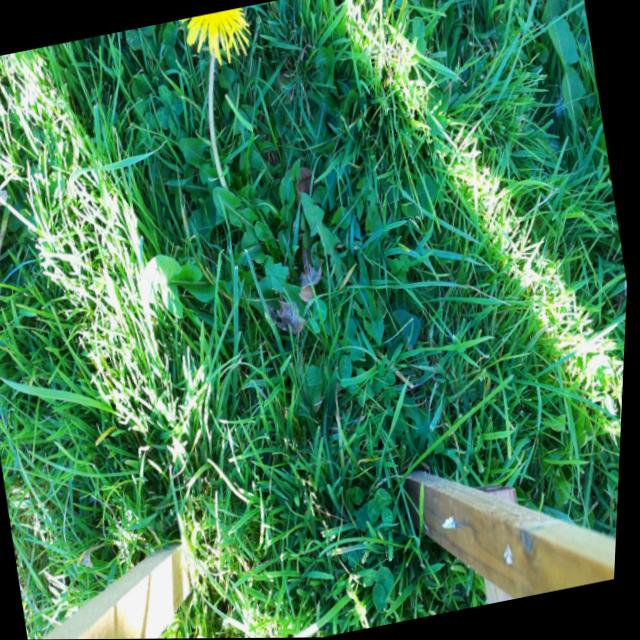base: (204, 156, 249, 216)
